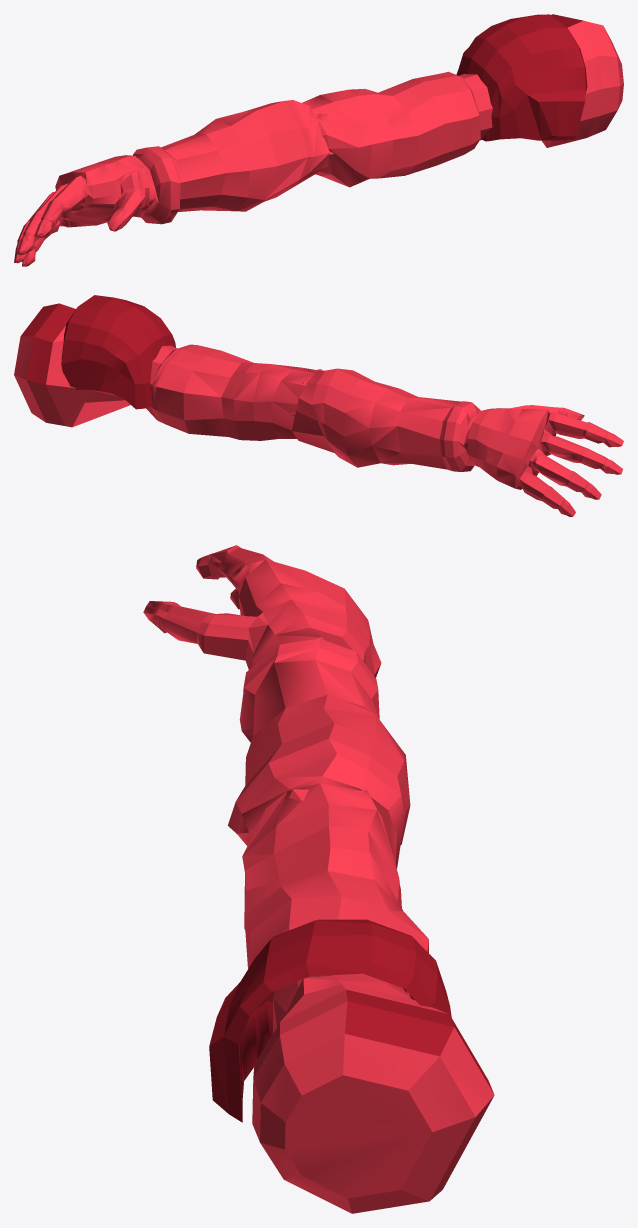
File: left_arm.fbx
3 views of the same model, one above another, from view 1: azimuth 30°, elevation 25°; view 2: azimuth 150°, elevation 25°; view 3: azimuth 270°, elevation 25° (orthographic). The views are drawn at different scales.
Parts seen in each view (by area): view 1: left_upper_arm; view 2: left_upper_arm; view 3: left_upper_arm.
Boxes of the visible parts, x1,y1,x2,y2 form: left_upper_arm: (14,14,623,266); left_upper_arm: (14,295,623,516); left_upper_arm: (143,545,494,1213).
Bounding box in the file's own units: 0.9077 × 0.1838 × 0.2465.
